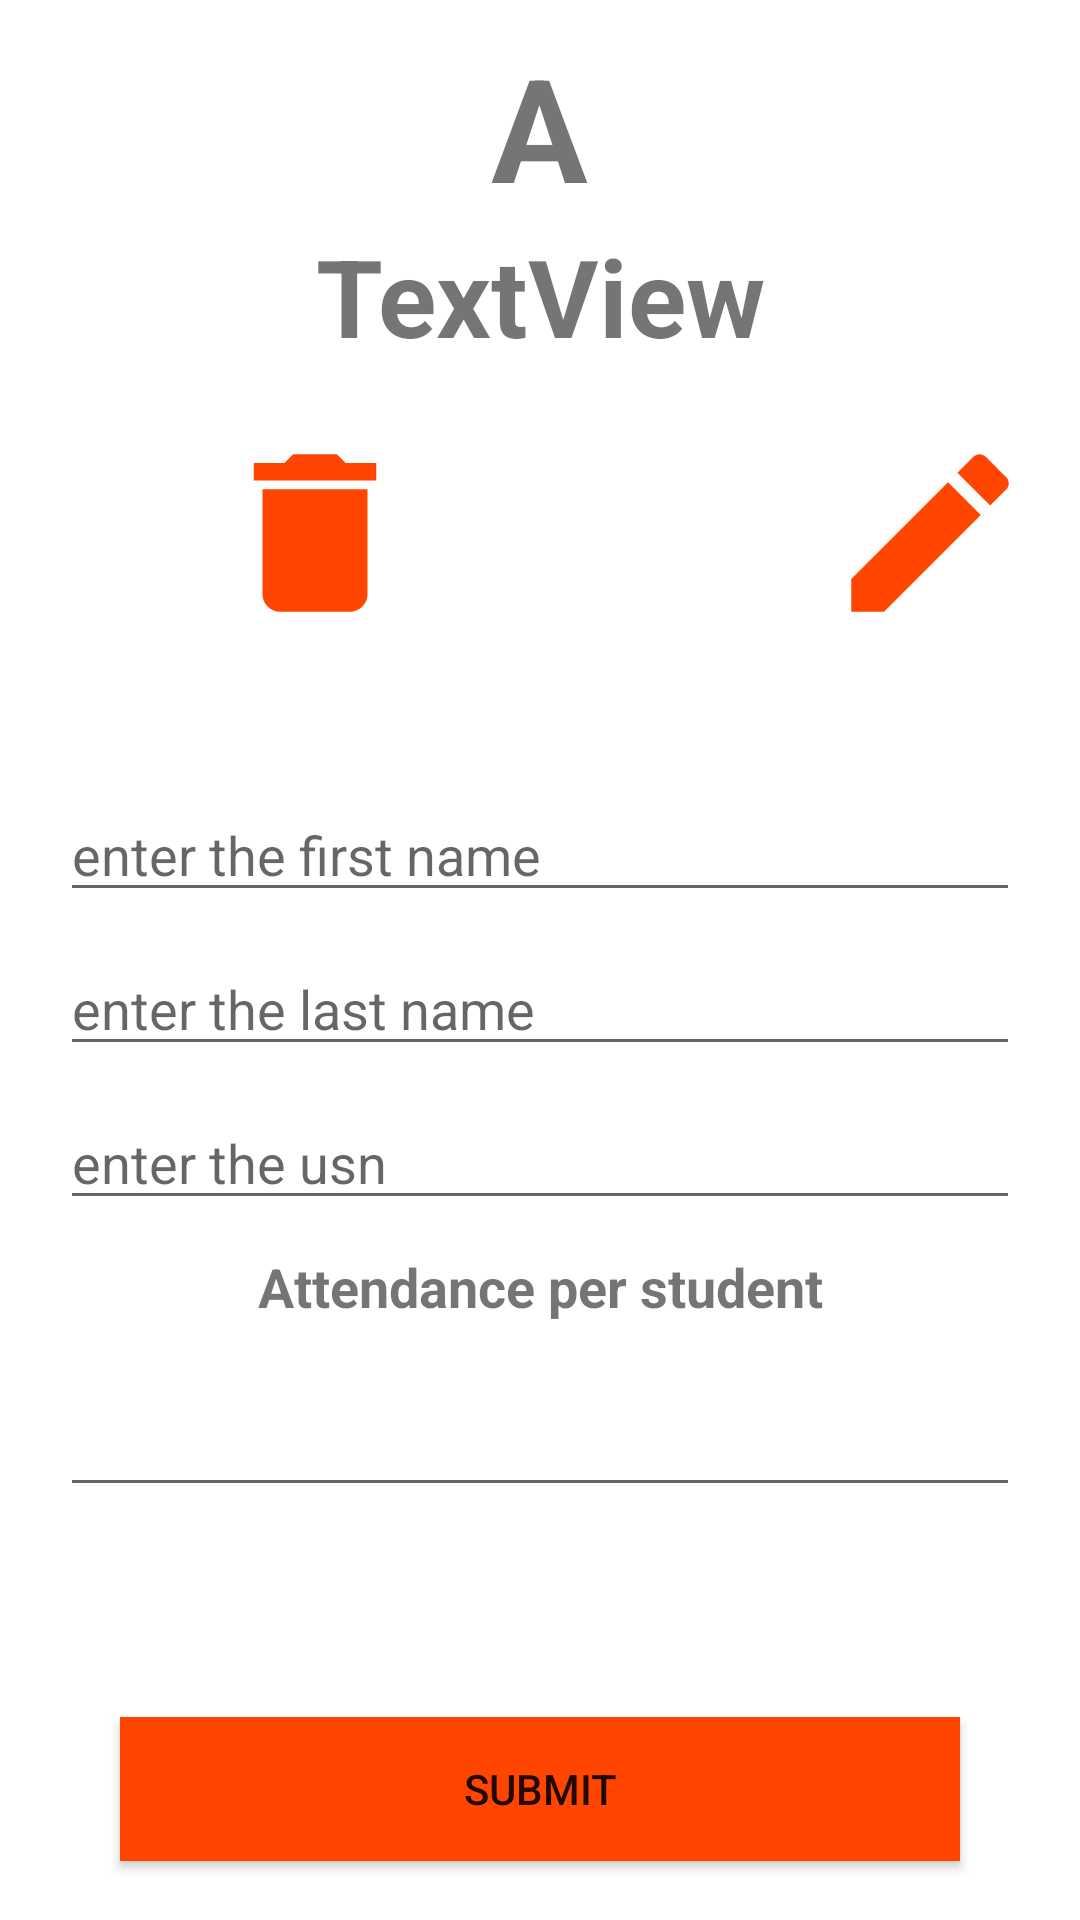

Icon click points for this 1080x1920 phone screenshot, format (x,y):
delete: (315,533)
